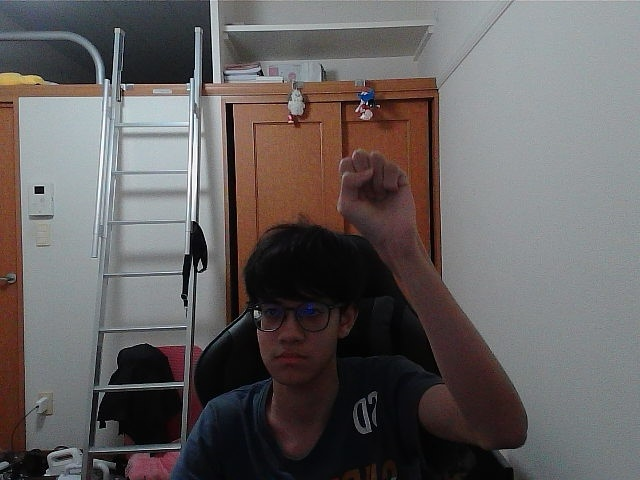closed_palm: (345, 155, 400, 235)
